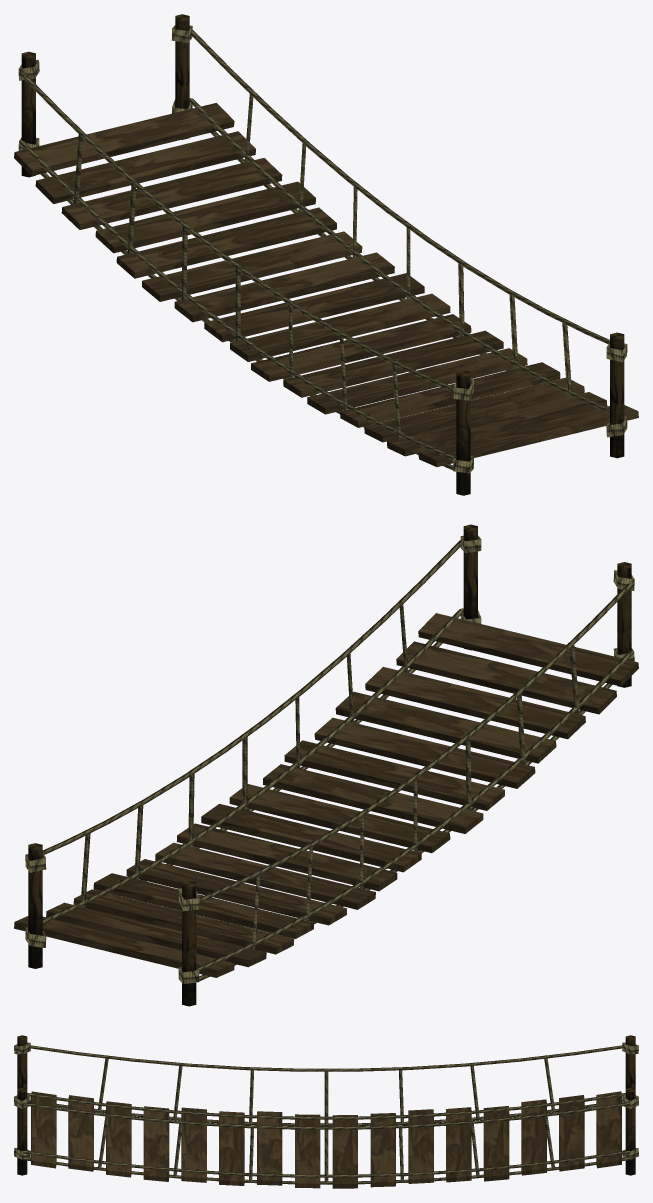
Rendered from bridge.fbx.
3 views of the same model, one above another, from view 1: azimuth 30°, elevation 25°; view 2: azimuth 150°, elevation 25°; view 3: azimuth 270°, elevation 25° (orthographic). The views are drawn at different scales.
Parts seen in each view (by area): view 1: Bridge01_LOD2; view 2: Bridge01_LOD2; view 3: Bridge01_LOD2.
Boxes of the visible parts, bbox=[...] form: Bridge01_LOD2: bbox=[14, 14, 638, 495]; Bridge01_LOD2: bbox=[14, 524, 638, 1006]; Bridge01_LOD2: bbox=[14, 1035, 638, 1188].
Bounding box in the file's own units: 246 × 145 × 903.
1 material, 1 textured.
